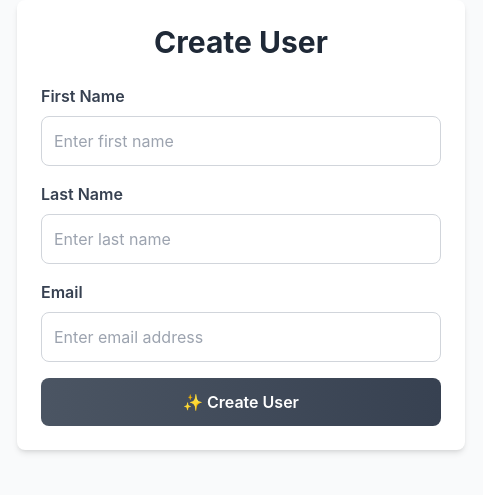
CreateUser Component › First Name Validation › validates first name with numbers
Step 1. Type "John123" into the field with test id "first-name-input" → (241, 141), box [41, 116, 441, 166]
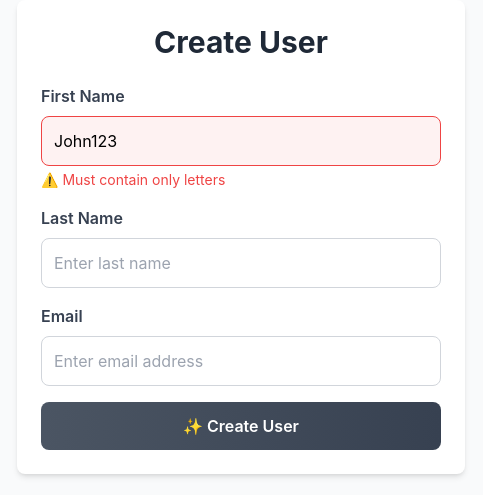
Now the text "⚠️ Must contain only letters" is shown, box [41, 171, 225, 188]
Now the text with test id "first-name-error" shows "Must contain only letters", box [62, 171, 225, 188]
